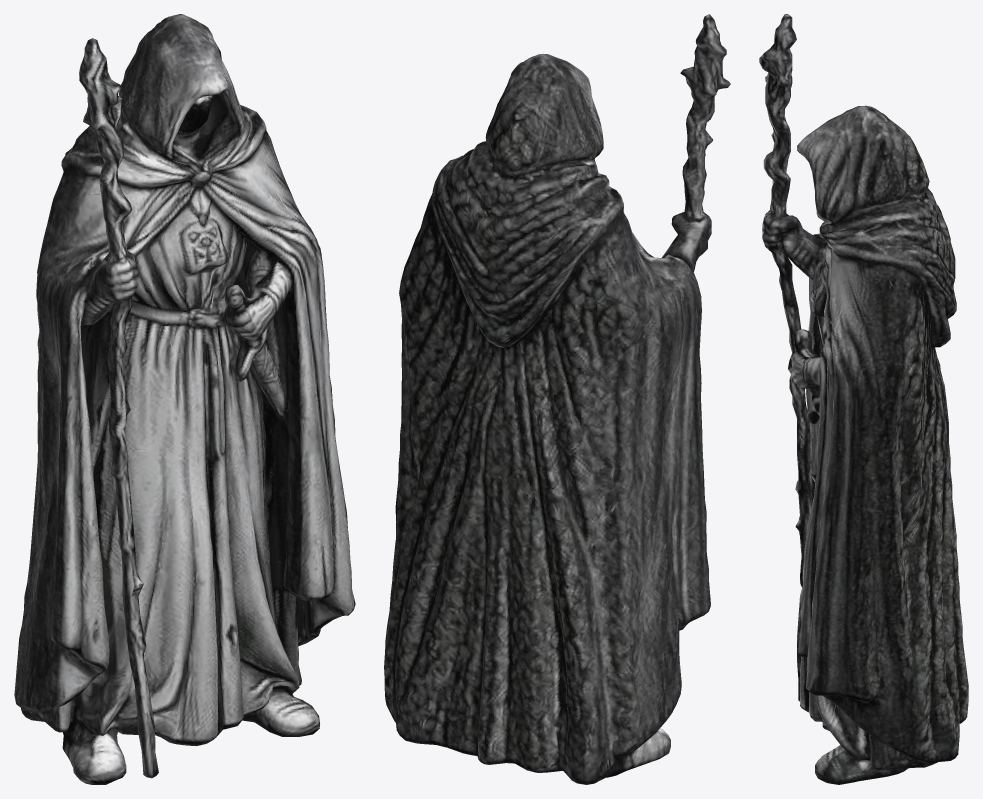
The model's file is Druid_Cultist.glb.
The picture shows the model from 3 angles, left to right: view 1: azimuth 30°, elevation 25°; view 2: azimuth 150°, elevation 25°; view 3: azimuth 270°, elevation 25°; orthographic projection. The views are drawn at different scales.
Bounding box in the file's own units: 0.7945 × 1.91 × 0.544.
1 material, 1 textured.
